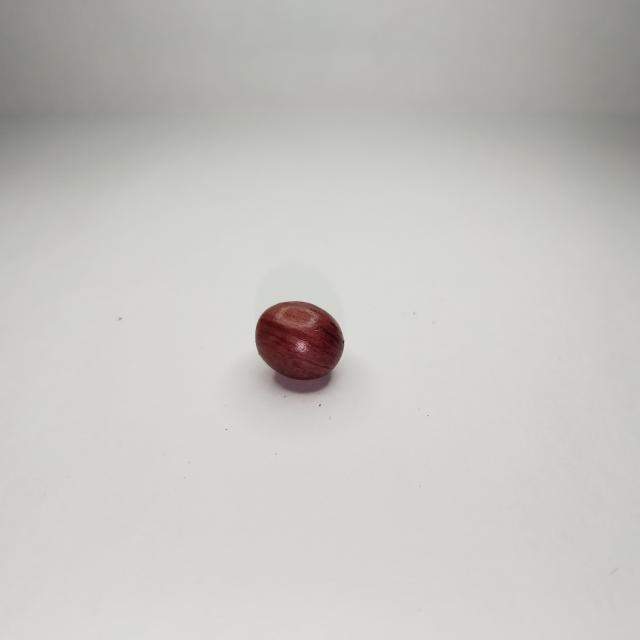Sano: (256, 303, 341, 380)
